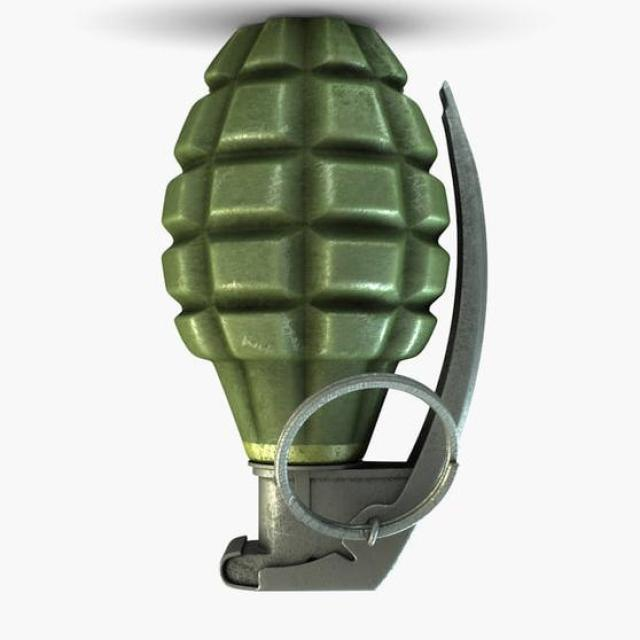grenade: (164, 15, 489, 594)
